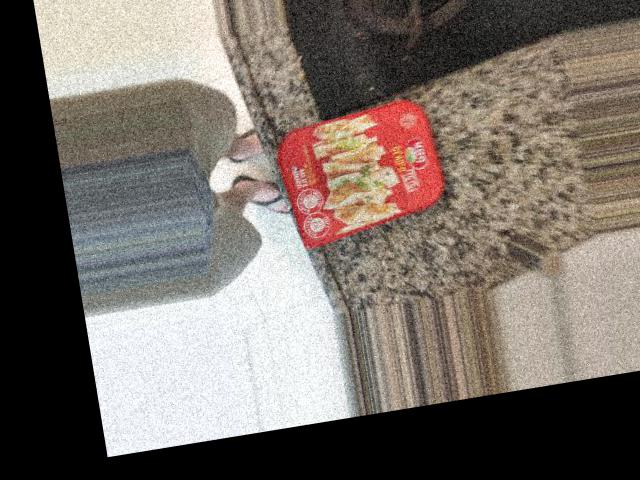cheese: (331, 67, 504, 221)
